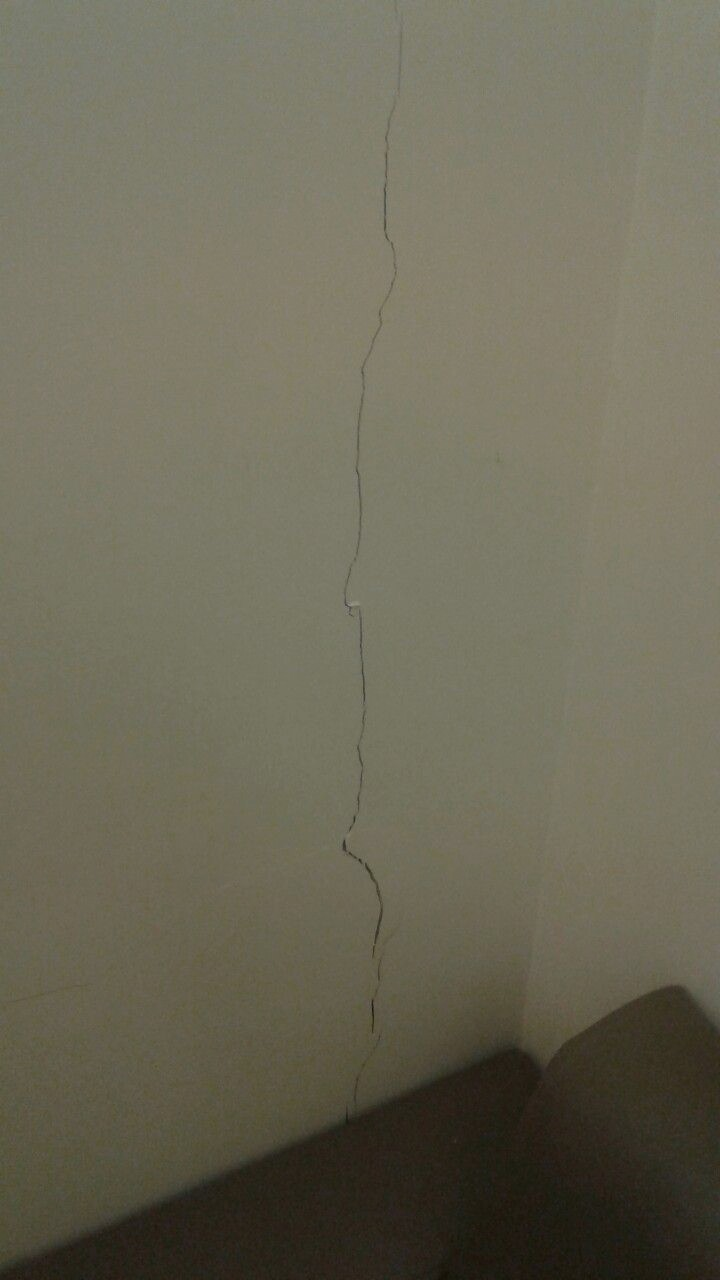crack: (326, 5, 409, 1135)
